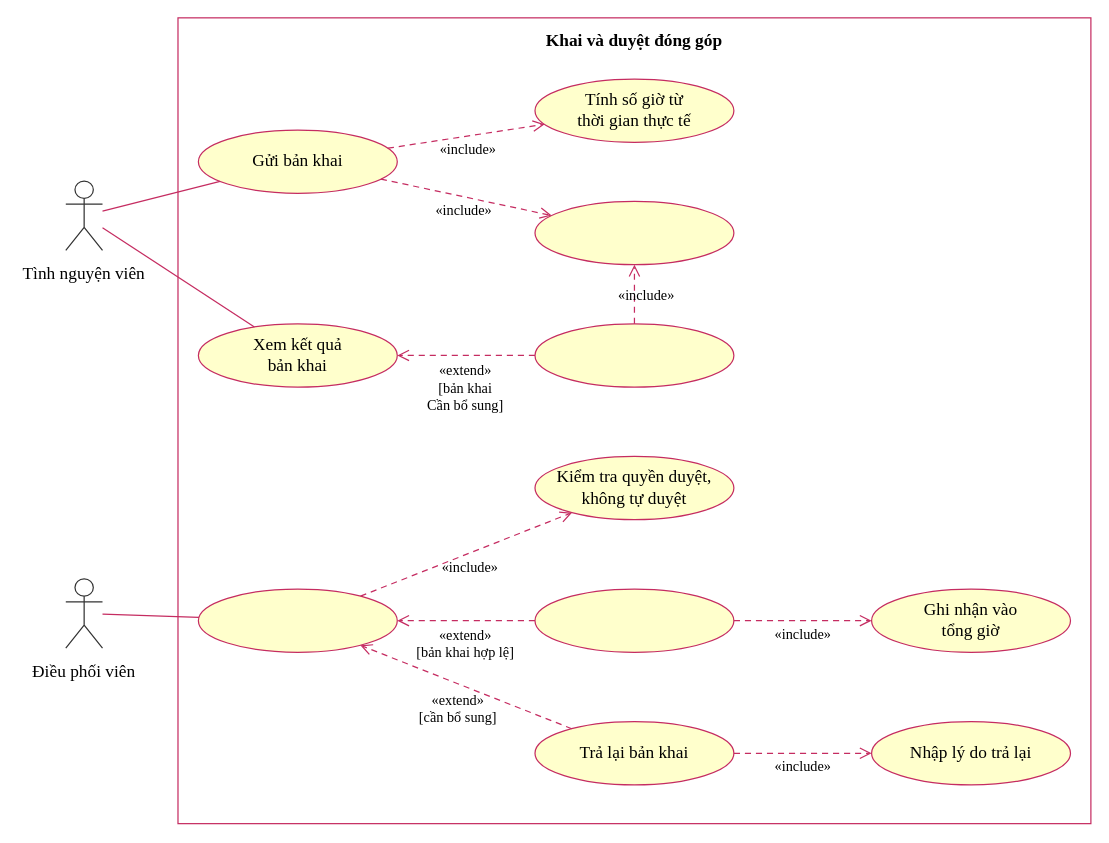
This 1109x843 diagram has some shape labels left out. The shapes that lost their labels are listed below. From the top down, each one's box as (x1, y1, x2, y2) in pixels, then its label:
(534, 200, 734, 265): Kiểm tra điều kiện khai đóng góp
(534, 323, 734, 387): Bổ sung bản khai
(197, 588, 397, 652): Xem bản khai chờ duyệt
(534, 588, 734, 652): Xác nhận đóng góp
